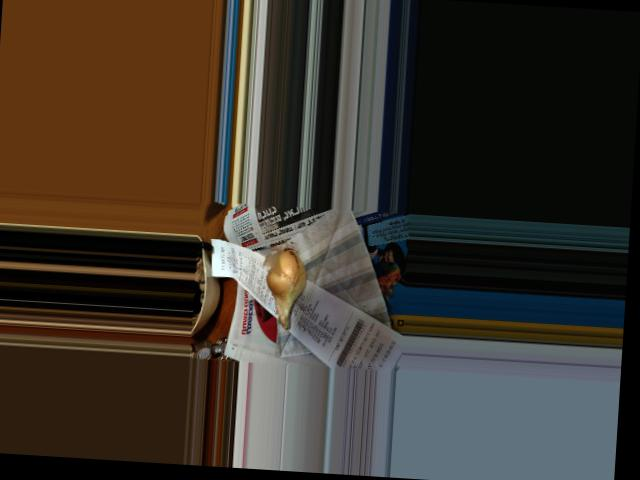onion: (265, 249, 306, 319)
